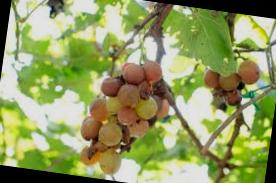Grape Rotten: (75, 51, 177, 182), (200, 53, 262, 109)
